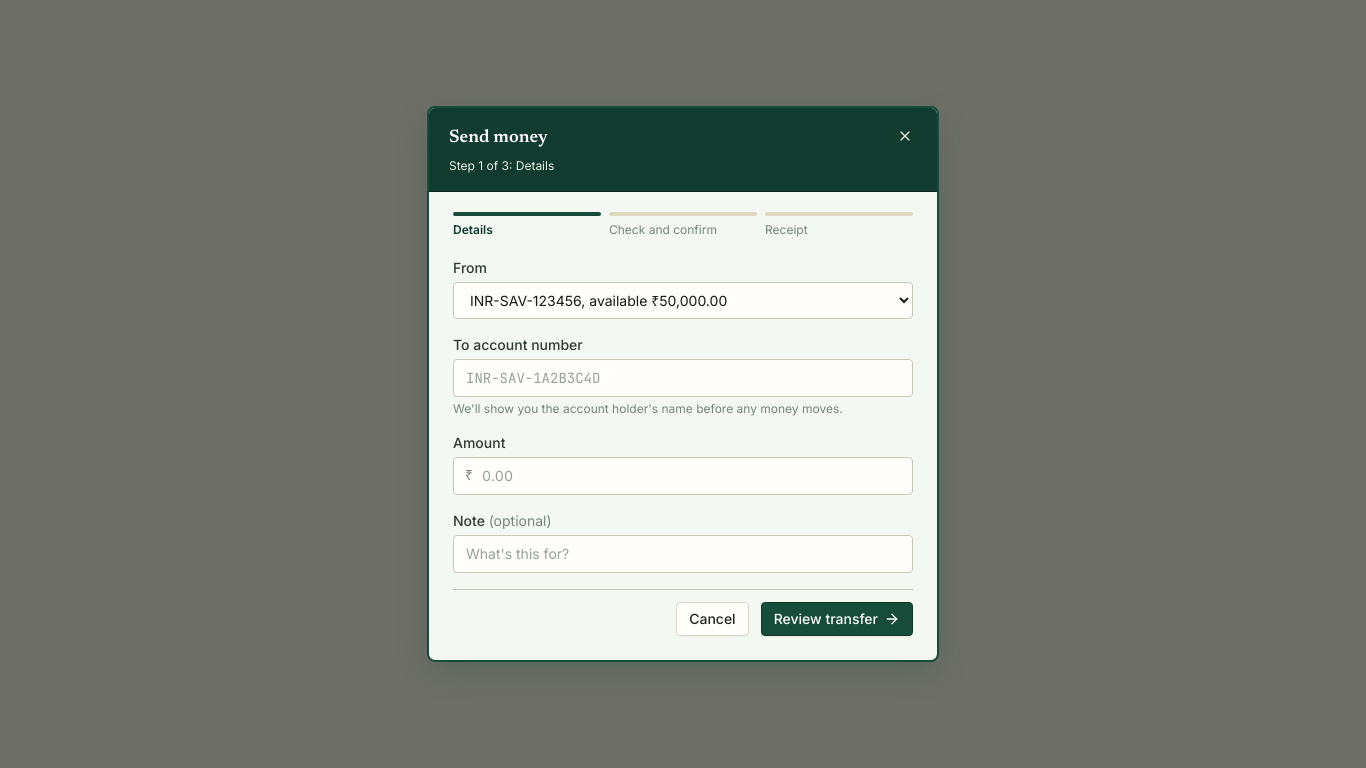
Test case: TransferModal Component › validates strictly positive amount and rejects zero or negative amounts
This screenshot has width=1366, height=768.
Type "0" into the field labelled "Amount" at (683, 476), box x1=453 y1=457 x2=913 y2=495
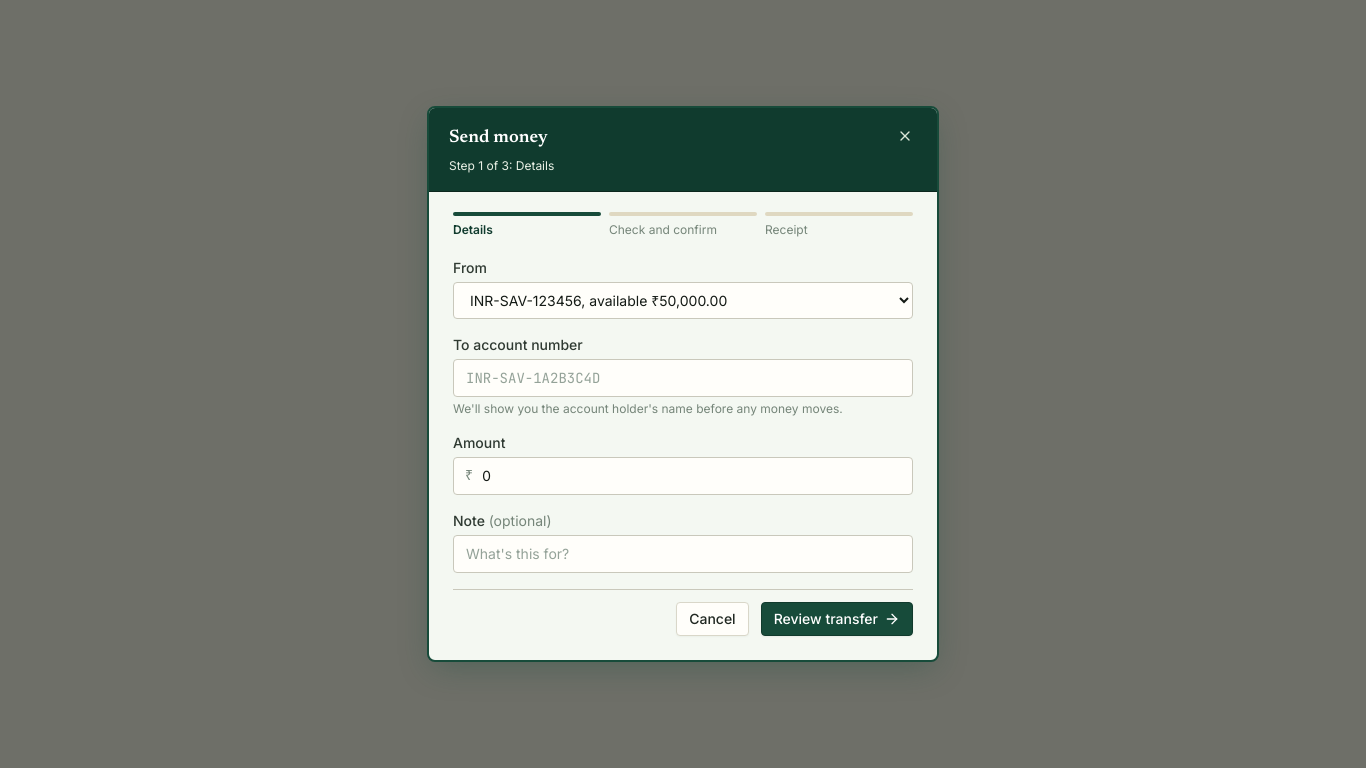
Type "INR-SAV-999999" into the field labelled "To account number" at (683, 378), box x1=453 y1=359 x2=913 y2=397
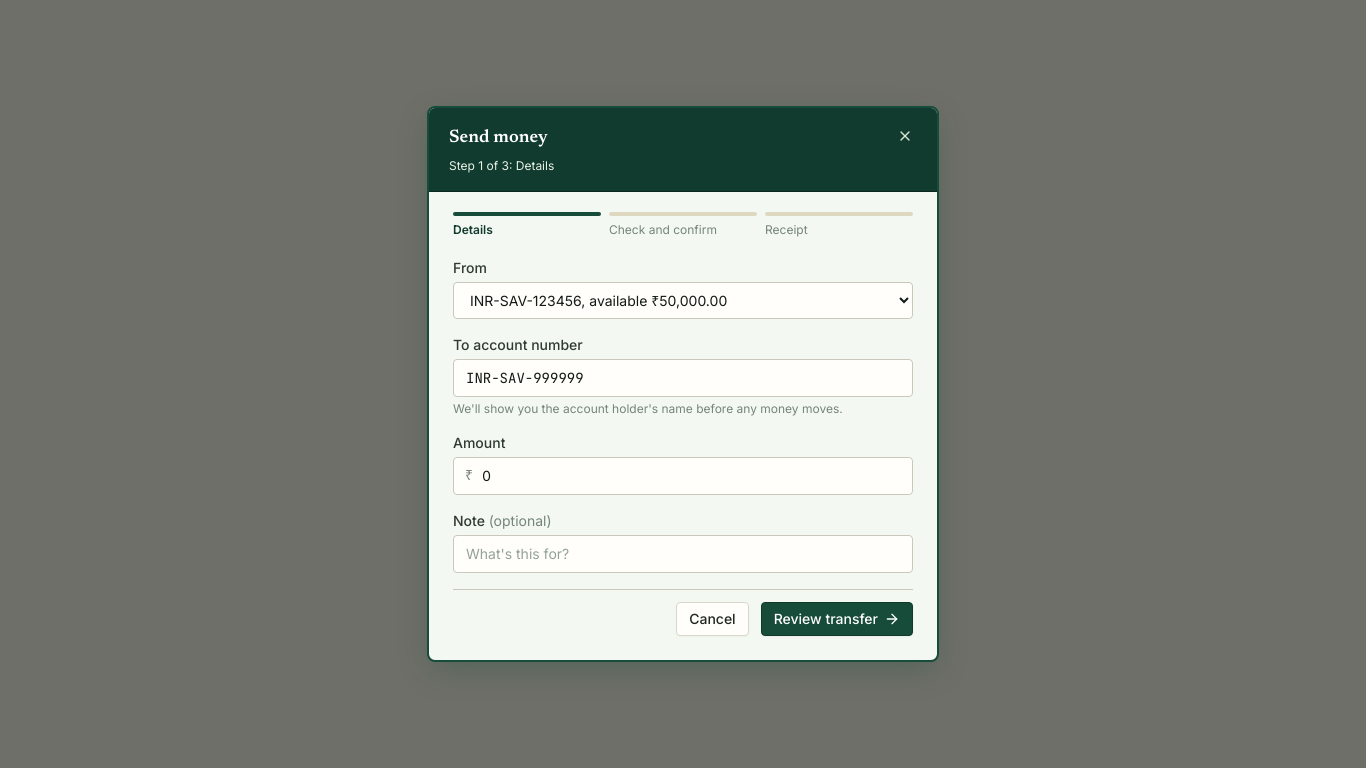
Click the button "Review transfer" at (837, 619), box x1=761 y1=602 x2=913 y2=636
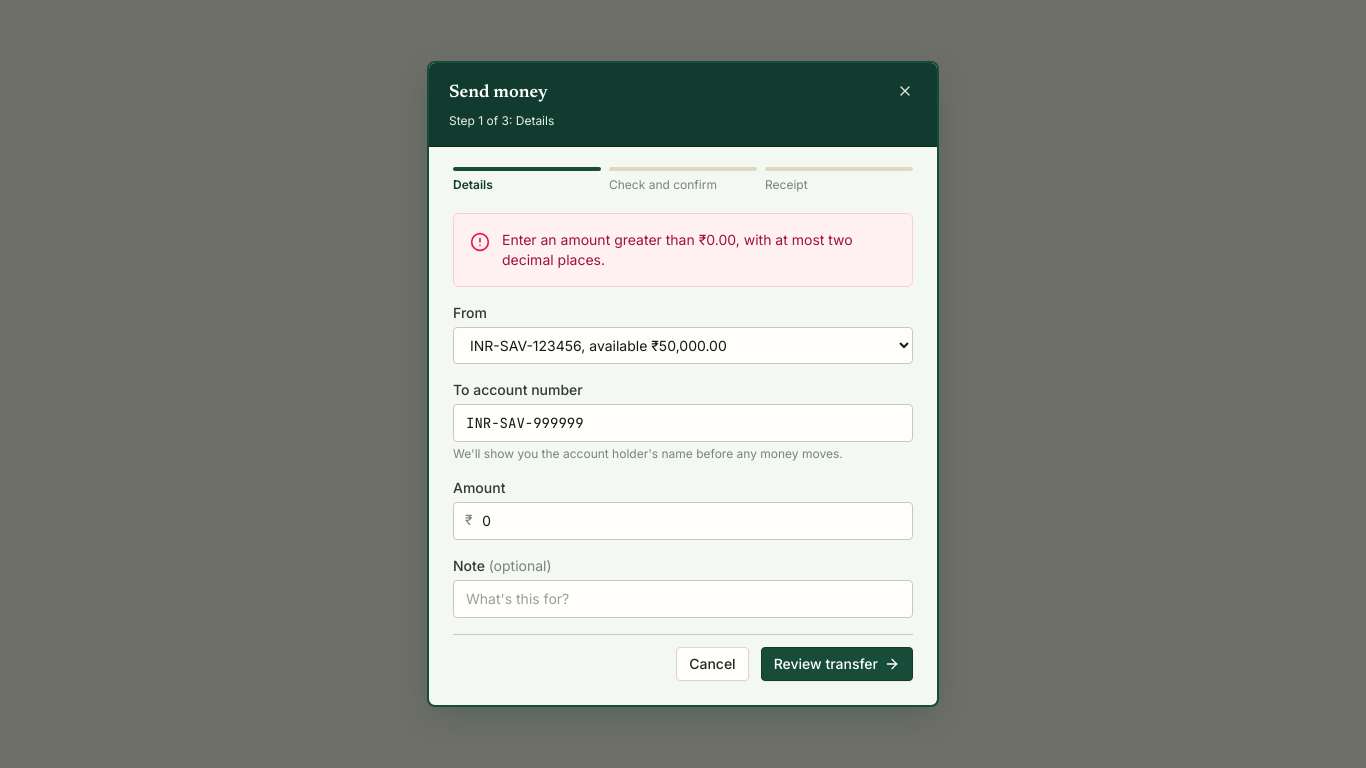
Now the text "Enter an amount greater than ₹0.00, with at most two decimal places." is shown, box x1=502 y1=230 x2=896 y2=270
